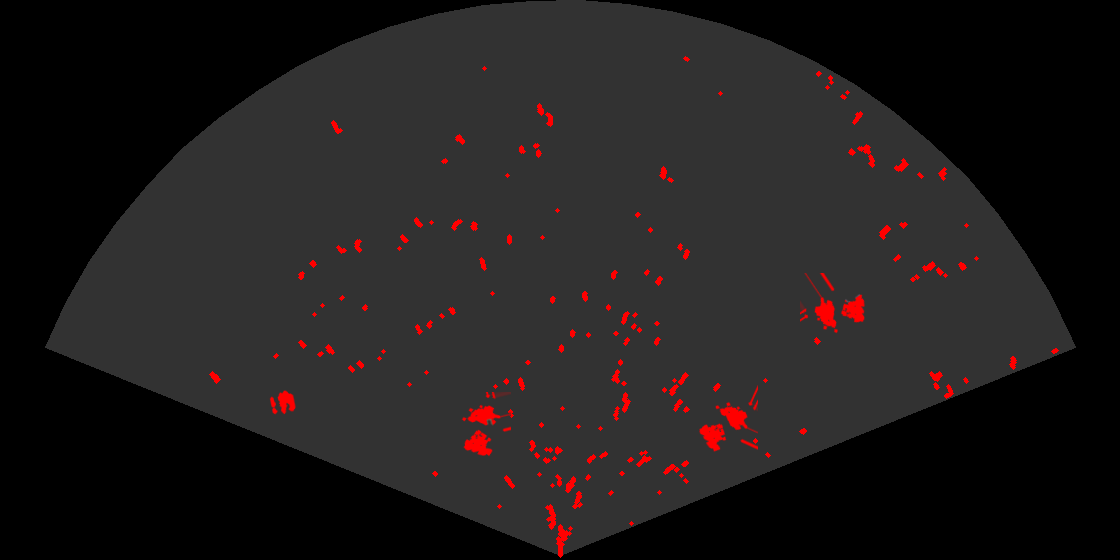ball: (268, 389, 297, 416)
cage: (800, 273, 867, 335), (698, 385, 758, 454), (460, 392, 511, 458)
